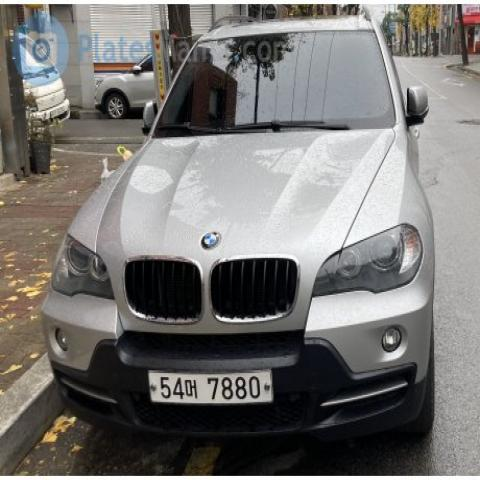LP: (142, 359, 276, 415)
